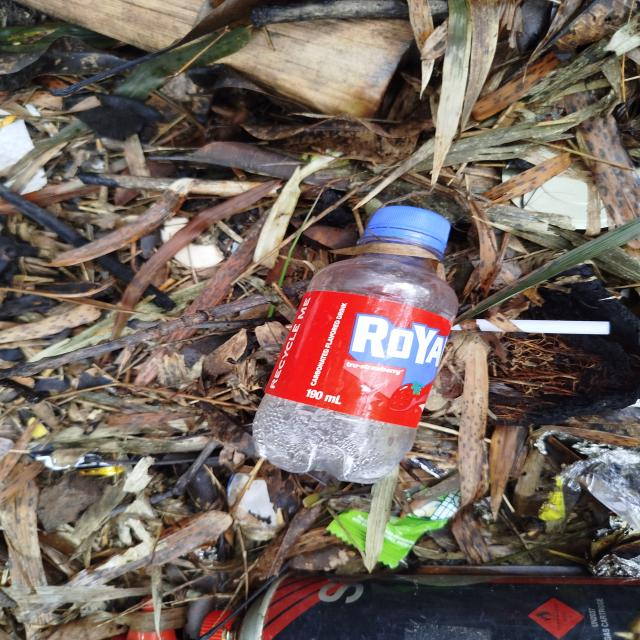metal: (179, 554, 640, 640)
plastic: (267, 208, 477, 493)
